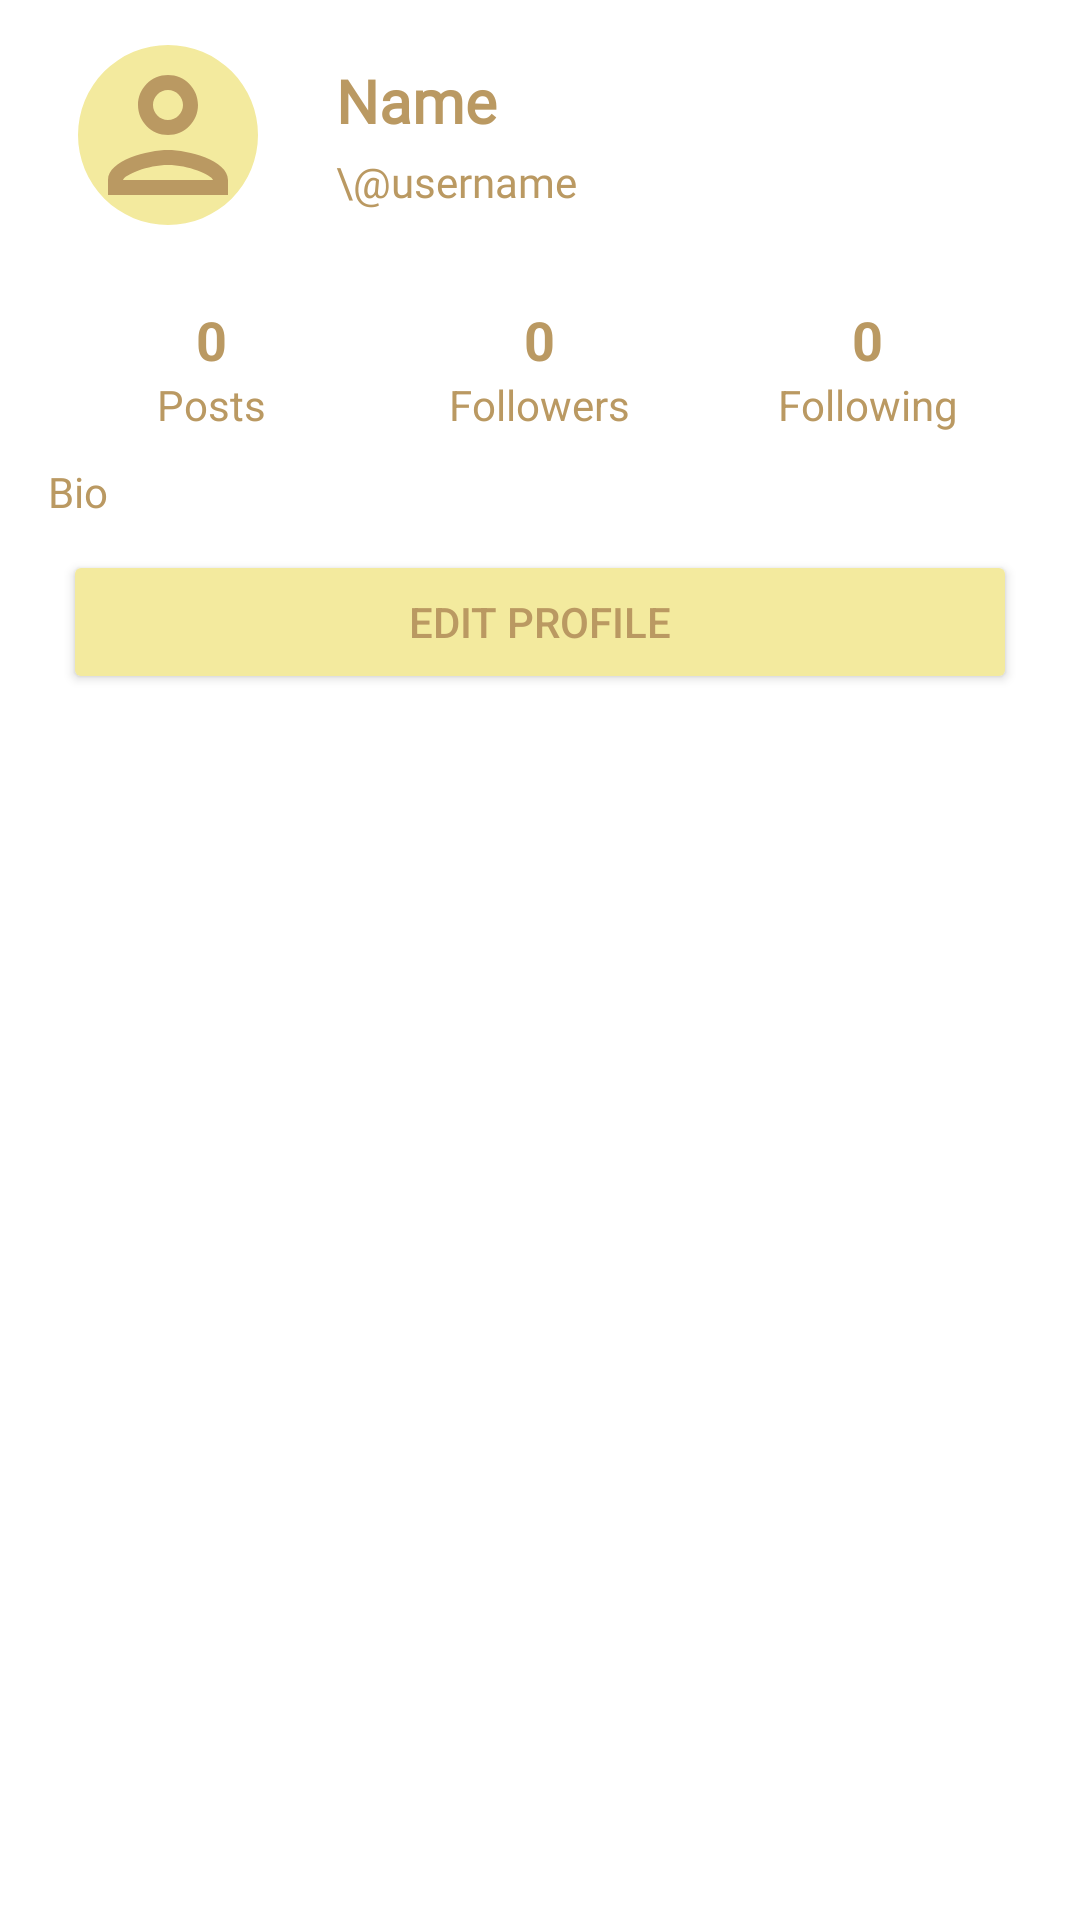

Named icons in this screenshot (1080w x 1920h) and their bounding boxes, (x1=x1, y1=y1, x2=x2, y2=y2):
home profile: (x1=78, y1=45, x2=258, y2=225)
